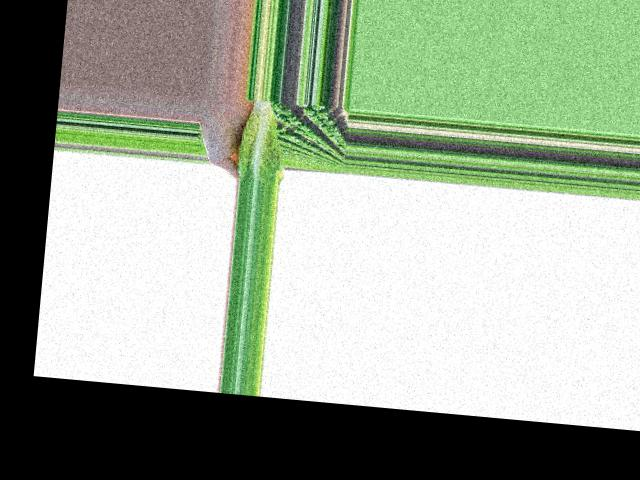lettuce: (236, 97, 288, 183)
